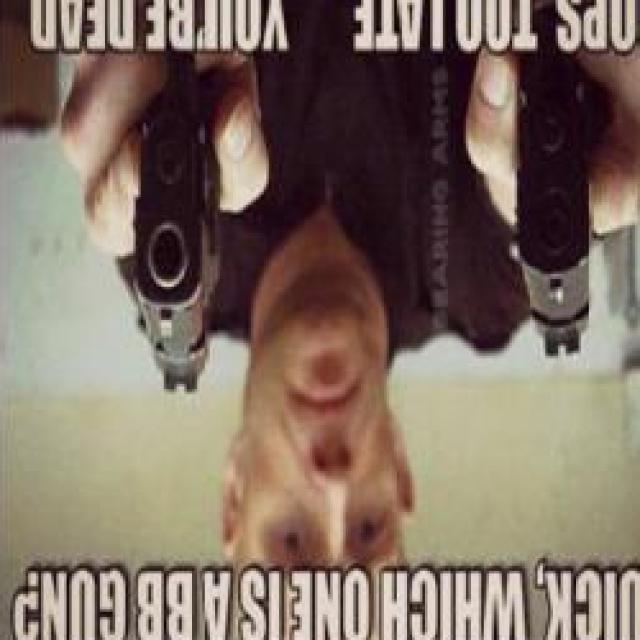pistol: (128, 24, 220, 404), (512, 14, 599, 374)
